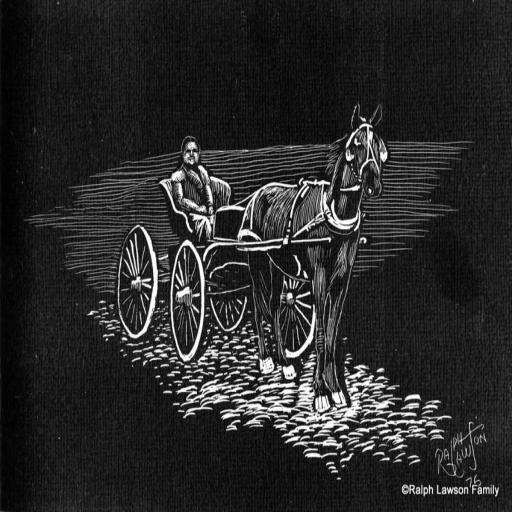horse: (246, 100, 385, 414)
